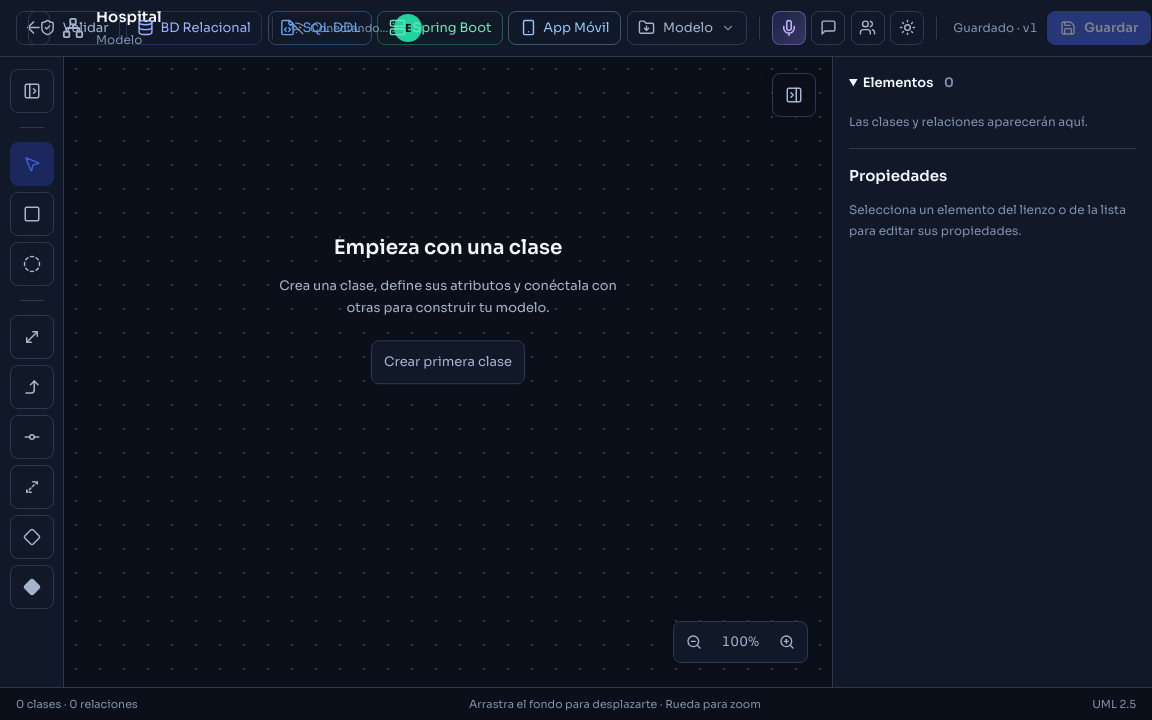
Test: permite al anfitrión abrir la administración de colaboradores
Check: the heading "Hospital" is shown, box [96,7,162,26]
What coordinates should you click on to do the following:
click the button named "Administrar colaboradores"
I would click on:
 (868, 28)
Its box is [851,11,885,45].
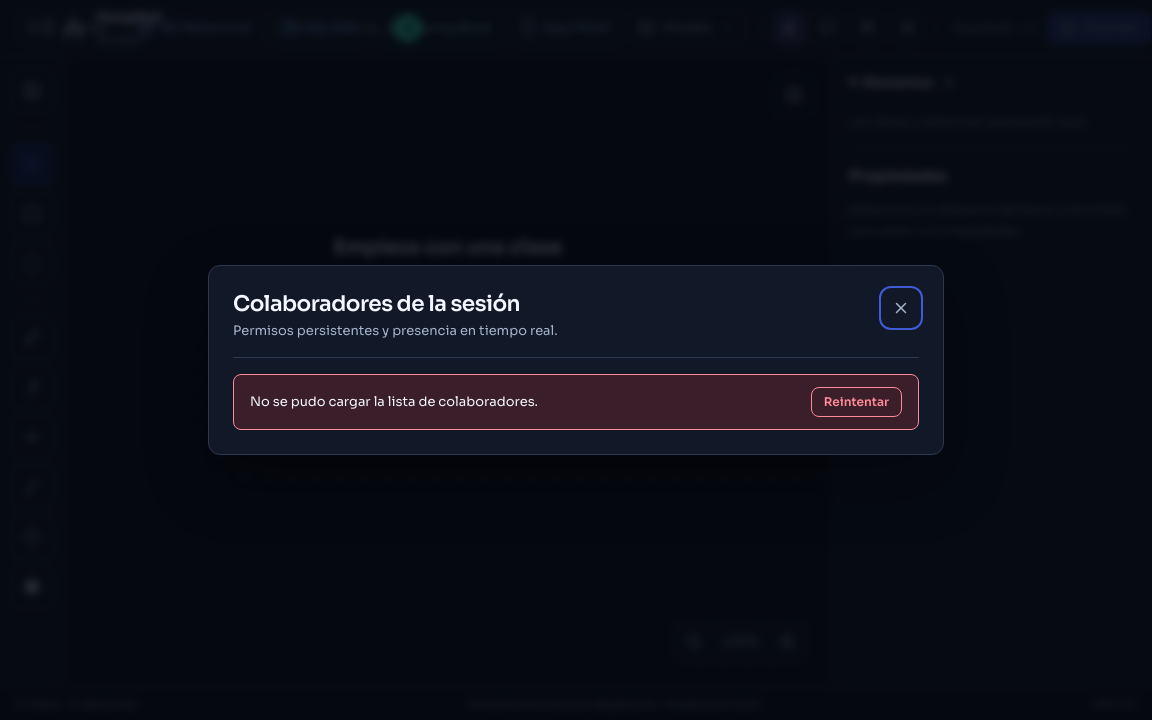
Check: the dialog "Colaboradores de la sesión" is shown, box [208,265,944,455]
